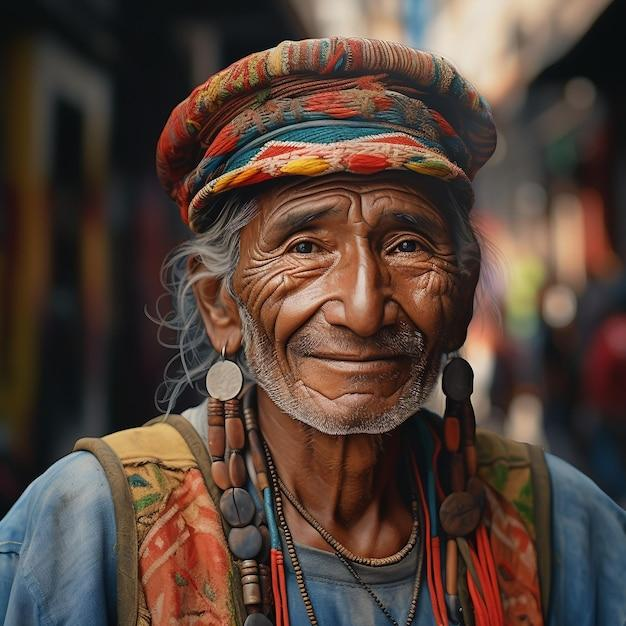cap: (148, 32, 520, 235)
